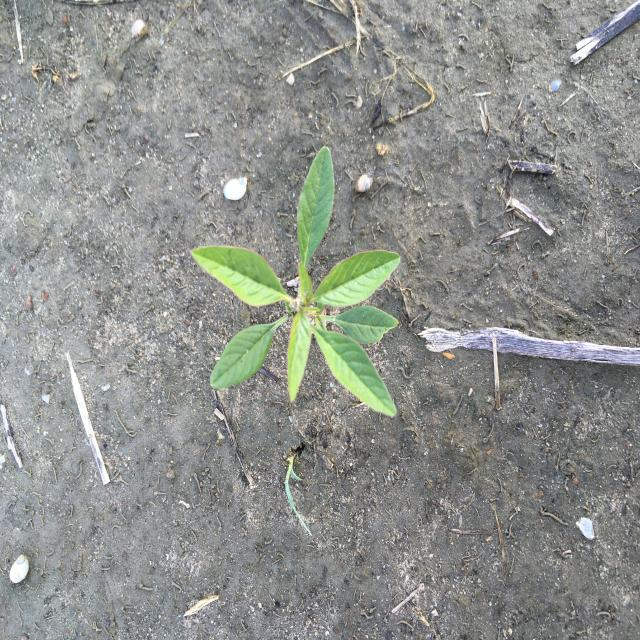Waterhemp: (188, 146, 401, 418)
